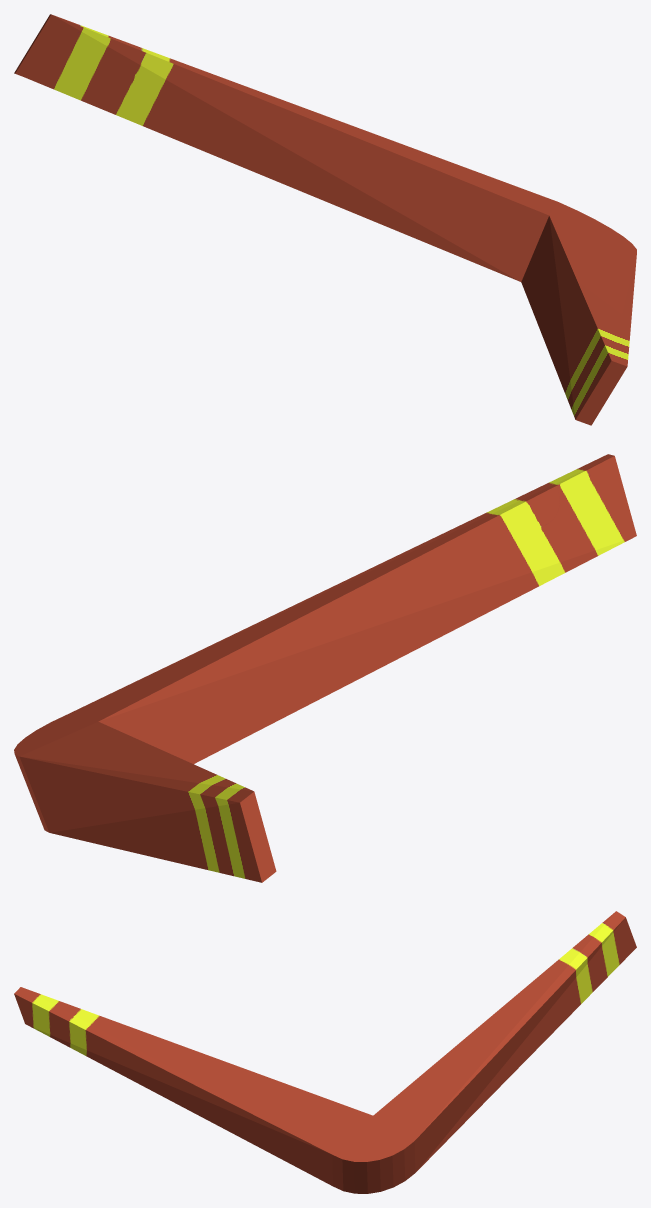
The model's file is BoomerangEnemy.obj.
The picture shows the model from 3 angles, top to bottom: view 1: azimuth 30°, elevation 25°; view 2: azimuth 150°, elevation 25°; view 3: azimuth 270°, elevation 25°; orthographic projection. The views are drawn at different scales.
Visible parts, largest first — view 1: 立方体; view 2: 立方体; view 3: 立方体.
Part boxes in pixels (x1,y1,x2,y2): 立方体: (14, 14, 636, 425); 立方体: (14, 454, 636, 882); 立方体: (14, 911, 636, 1193).
Size of the model in its own units: 0.7883 by 0.4392 by 1.51.
1 material, 1 textured.
